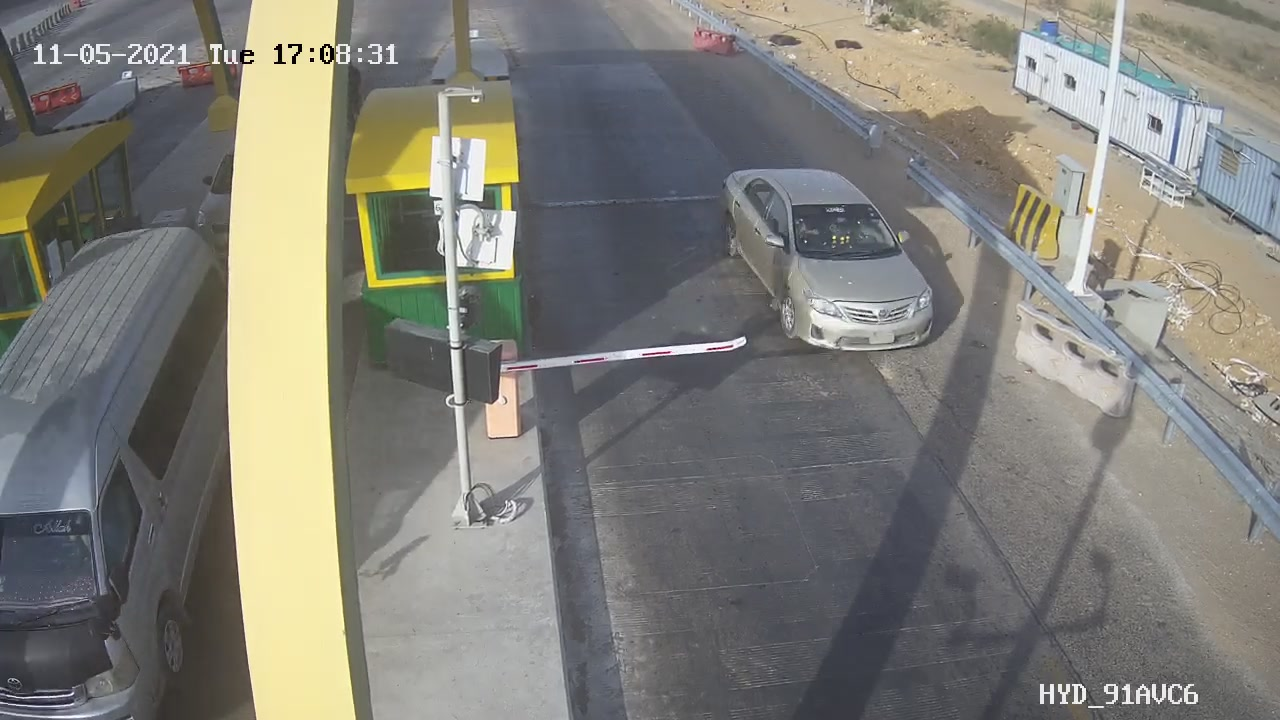F1: (703, 151, 951, 373)
